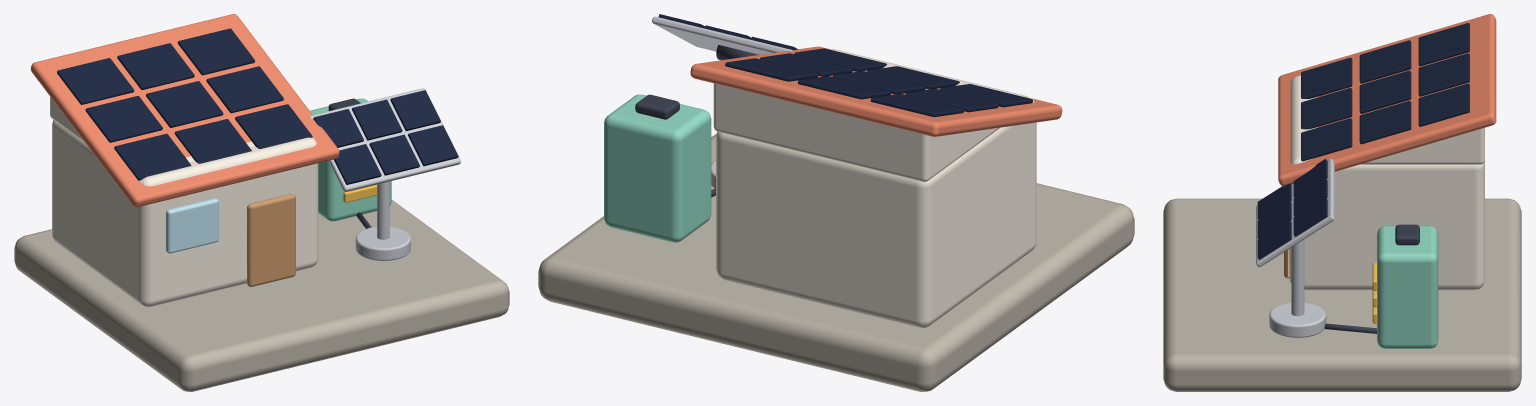
Rendered from solarflow.glb.
3 views of the same model, side by side, from view 1: azimuth 30°, elevation 25°; view 2: azimuth 150°, elevation 25°; view 3: azimuth 270°, elevation 25° (orthographic). The views are drawn at different scales.
Visible parts, largest first — view 1: SolarFlow, SolarFlow_House, SolarFlow_RoofCells, SolarFlow_Roof, SolarFlow_PanelCells, SolarFlow_Door, SolarFlow_Window, SolarFlow_Panel, SolarFlow_Post, SolarFlow_Battery, SolarFlow_Gable; view 2: SolarFlow_House, SolarFlow, SolarFlow_Battery, SolarFlow_Gable, SolarFlow_RoofCells, SolarFlow_Roof, SolarFlow_Panel, SolarFlow_BatteryCap, SolarFlow_PanelCells; view 3: SolarFlow, SolarFlow_House, SolarFlow_RoofCells, SolarFlow_Roof, SolarFlow_Battery, SolarFlow_PanelCells, SolarFlow_Post, SolarFlow_Gable, SolarFlow_Panel, SolarFlow_BatteryCap, SolarFlow_Cable.
Boxes of the visible parts, <box> form: SolarFlow: <box>14,199,509,391</box>; SolarFlow_House: <box>52,120,318,307</box>; SolarFlow_RoofCells: <box>57,28,312,180</box>; SolarFlow_Roof: <box>30,14,339,207</box>; SolarFlow_PanelCells: <box>313,90,458,184</box>; SolarFlow_Door: <box>246,194,295,286</box>; SolarFlow_Window: <box>166,198,218,253</box>; SolarFlow_Panel: <box>309,88,460,191</box>; SolarFlow_Post: <box>355,181,410,260</box>; SolarFlow_Battery: <box>310,98,391,221</box>; SolarFlow_Gable: <box>50,96,316,185</box>; SolarFlow_House: <box>716,49,1036,328</box>; SolarFlow: <box>538,134,1134,391</box>; SolarFlow_Battery: <box>604,94,711,242</box>; SolarFlow_Gable: <box>713,68,1034,181</box>; SolarFlow_RoofCells: <box>725,48,1032,117</box>; SolarFlow_Roof: <box>690,46,1062,136</box>; SolarFlow_Panel: <box>652,16,793,54</box>; SolarFlow_BatteryCap: <box>635,94,679,119</box>; SolarFlow_PanelCells: <box>658,14,798,50</box>; SolarFlow: <box>1163,198,1521,391</box>; SolarFlow_House: <box>1289,75,1484,290</box>; SolarFlow_RoofCells: <box>1301,23,1469,161</box>; SolarFlow_Roof: <box>1278,14,1496,186</box>; SolarFlow_Battery: <box>1377,225,1438,348</box>; SolarFlow_PanelCells: <box>1257,159,1327,259</box>; SolarFlow_Post: <box>1269,239,1326,337</box>; SolarFlow_Gable: <box>1292,97,1484,164</box>; SolarFlow_Panel: <box>1256,158,1334,267</box>; SolarFlow_BatteryCap: <box>1395,224,1419,245</box>; SolarFlow_Cable: <box>1324,323,1376,333</box>.
Bounding box in the file's own units: 4.8 × 3.01 × 4.4.
